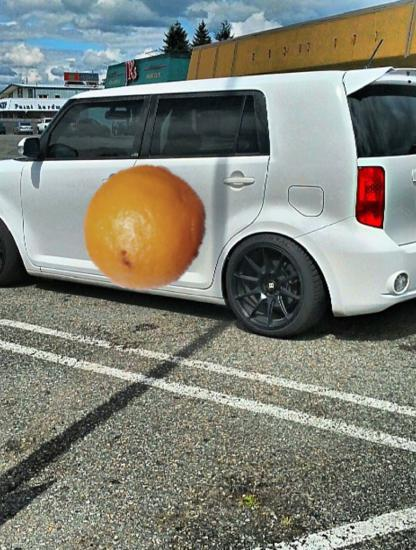Lemon: (81, 164, 209, 292)
